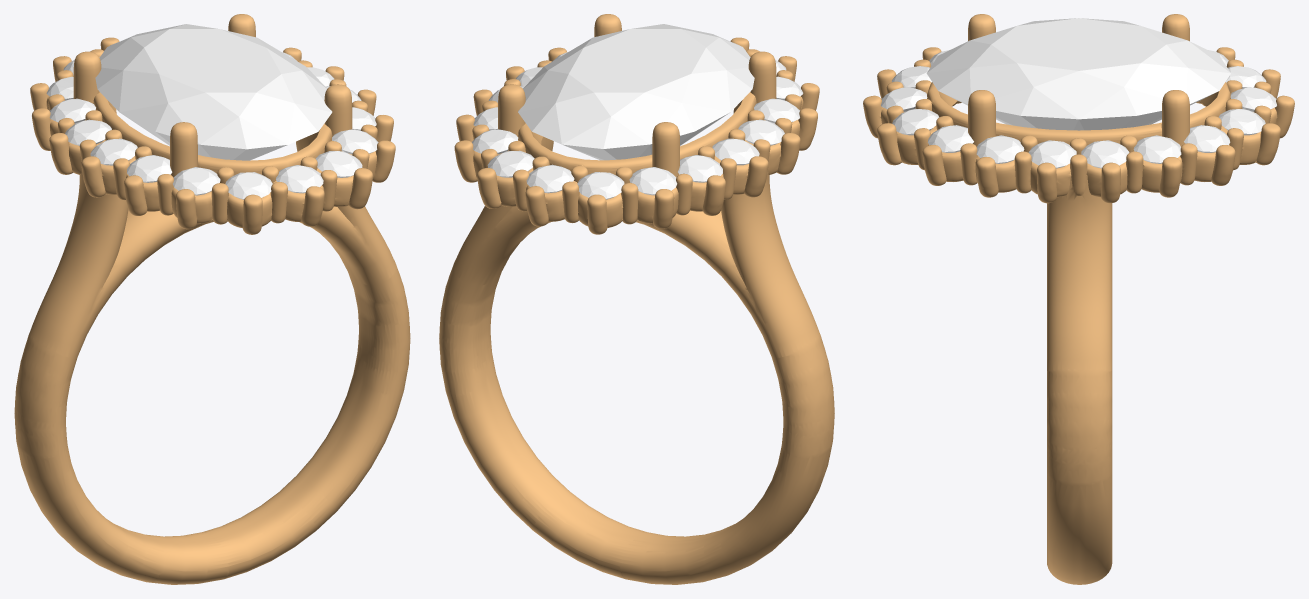
3 views of the same model, side by side, from view 1: azimuth 30°, elevation 25°; view 2: azimuth 150°, elevation 25°; view 3: azimuth 270°, elevation 25° (orthographic).
Visible parts, largest first — view 1: 403689Masina_DiamondsC-3dm; view 2: 403689Masina_DiamondsC-3dm; view 3: 403689Masina_DiamondsC-3dm.
Part boxes in pixels (box(x1,y1,x2,y2)): 403689Masina_DiamondsC-3dm: box(14, 14, 410, 584); 403689Masina_DiamondsC-3dm: box(439, 14, 834, 584); 403689Masina_DiamondsC-3dm: box(863, 14, 1294, 584).
Size of the model in its own units: 2.11 by 2.71 by 2.04.
